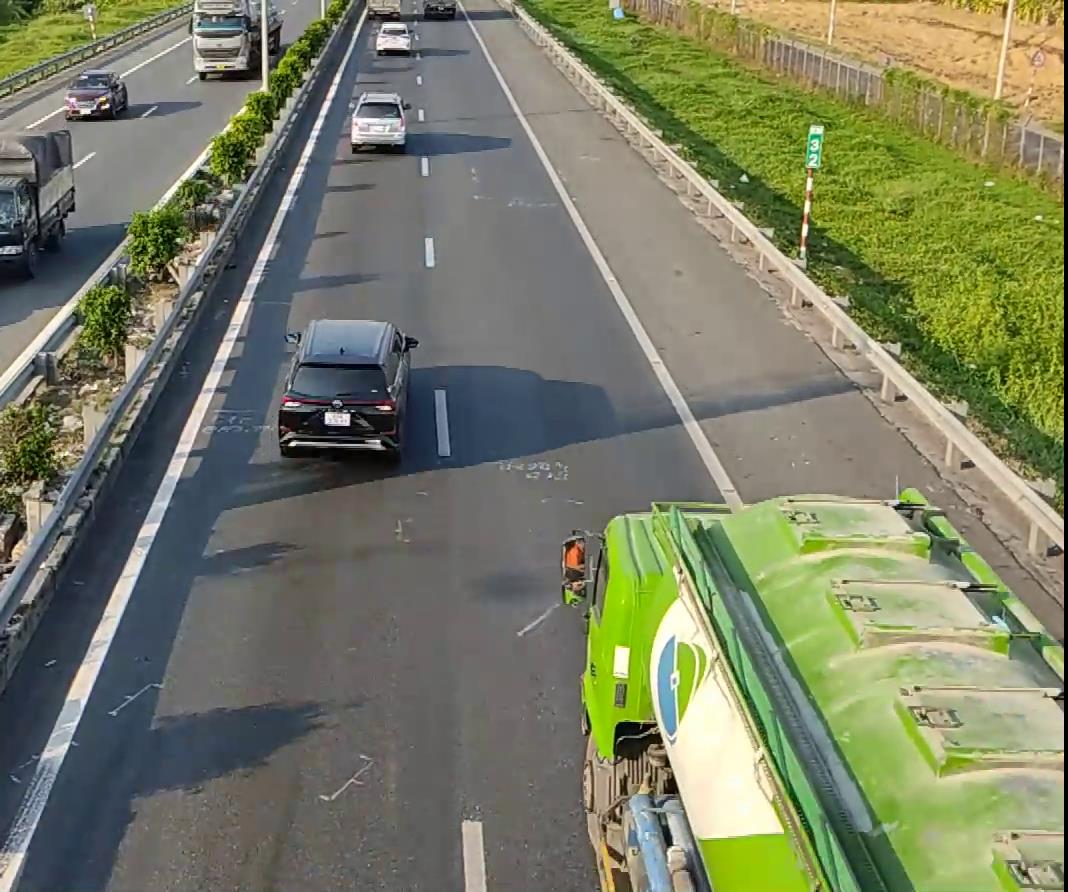car: (273, 318, 414, 456)
container: (567, 496, 1060, 886)
truck: (0, 121, 78, 280)
